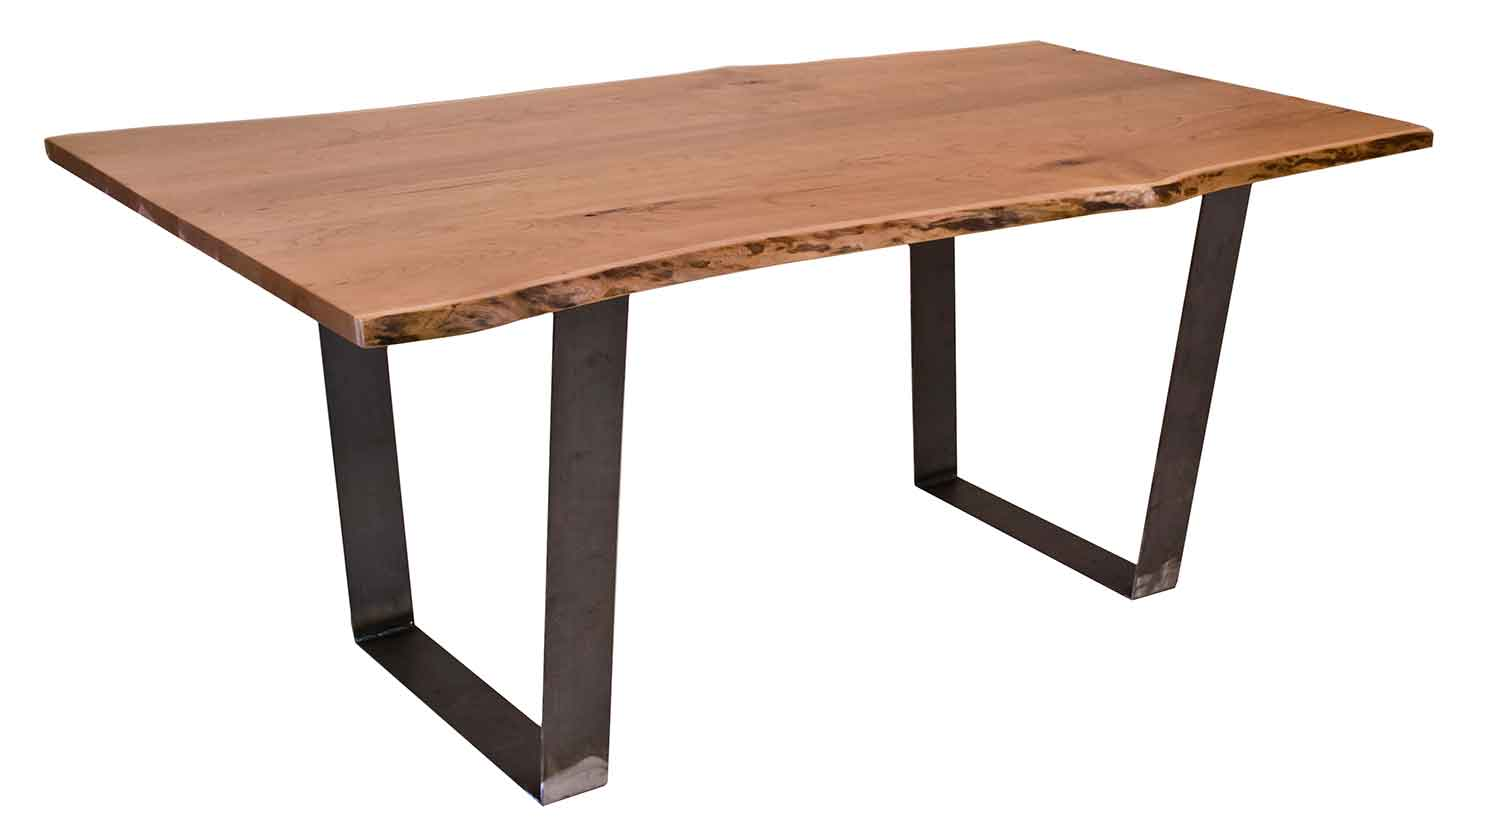meja: (44, 42, 1455, 747)
